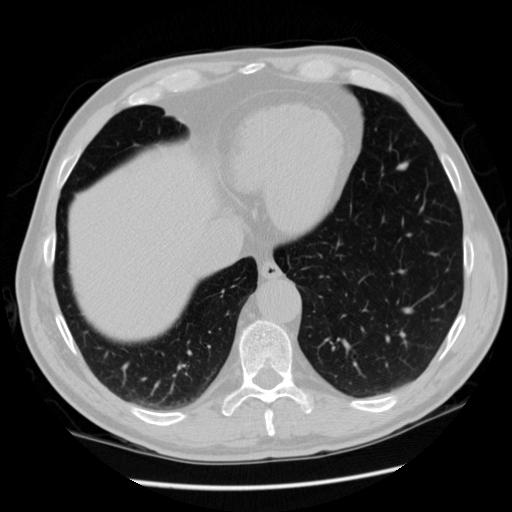nodule: (395, 159, 410, 174)
